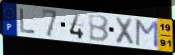4: (68, 13, 85, 41)
7: (41, 8, 58, 39)
B: (87, 15, 110, 44)
L: (19, 8, 37, 35)
M: (134, 19, 160, 50)
X: (114, 15, 136, 47)
